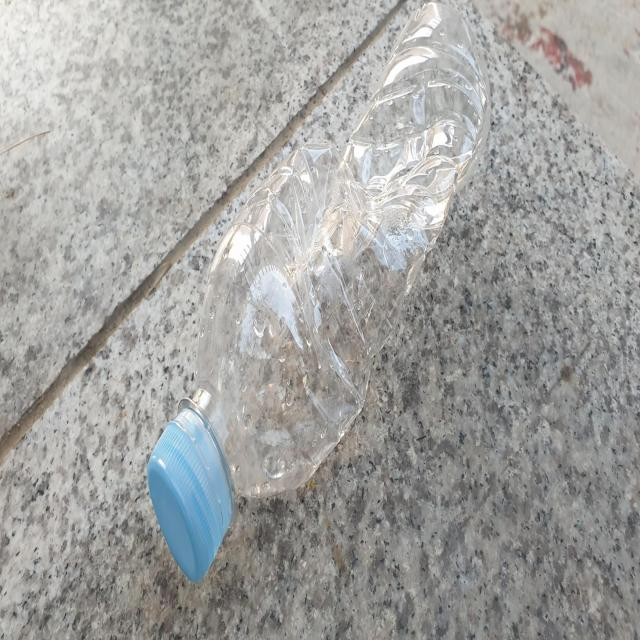plastic: (147, 1, 491, 582)
